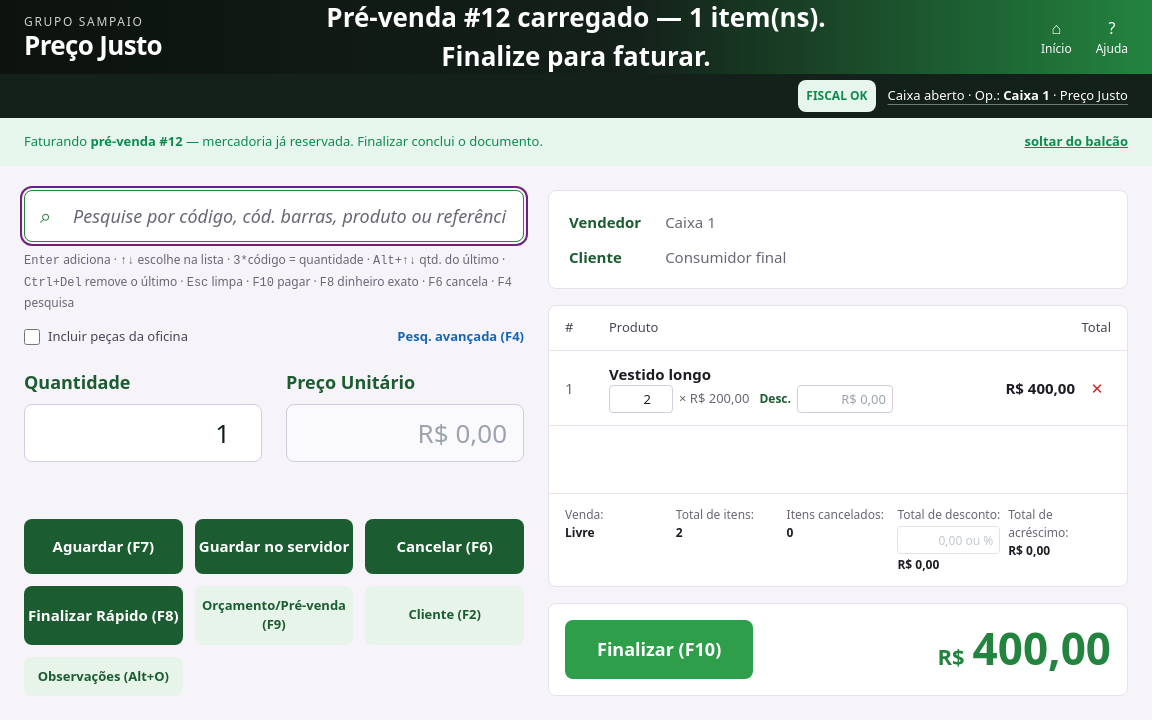
Test: a conversão da pré-venda recusada pela chave reusada › "Registrar como venda nova" converte o documento com OUTRA chave
What coordinates should you click on to do the following:
click the button "Finalizar Rápido (F8)"
I would click on:
 (103, 615)
Its box is [24,586,183,644].
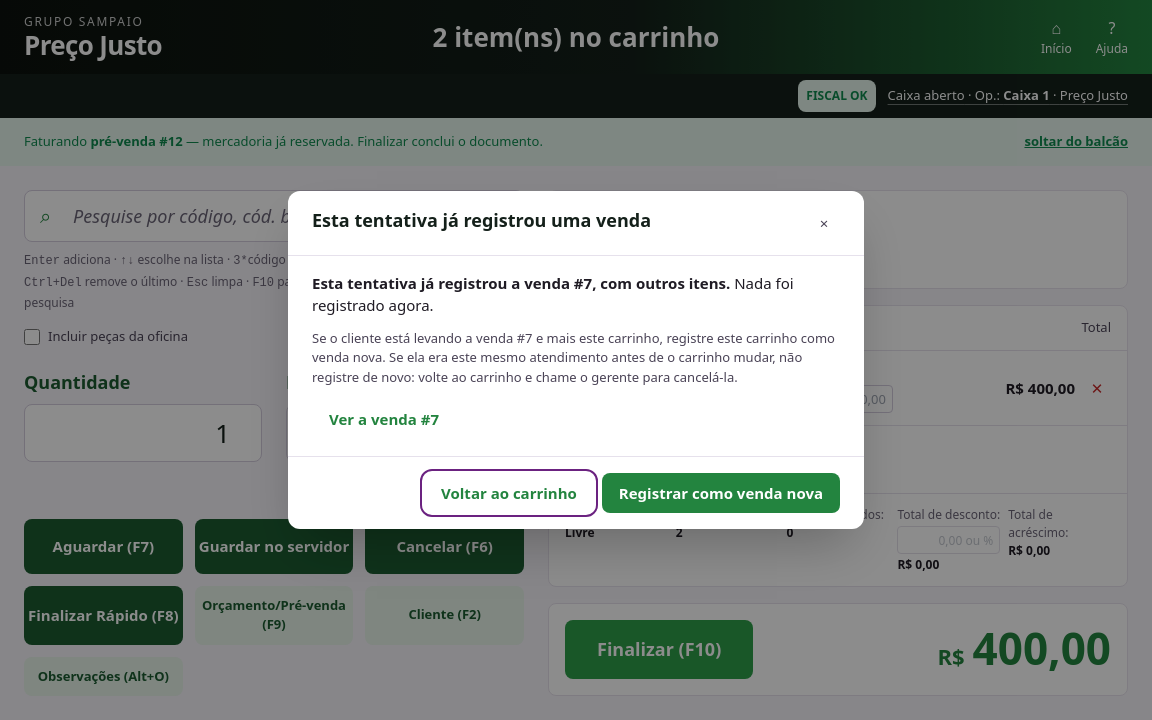
What coordinates should you click on to do the following:
click the button "Registrar como venda nova"
I would click on:
 (721, 493)
Its box is [602,473,840,513].
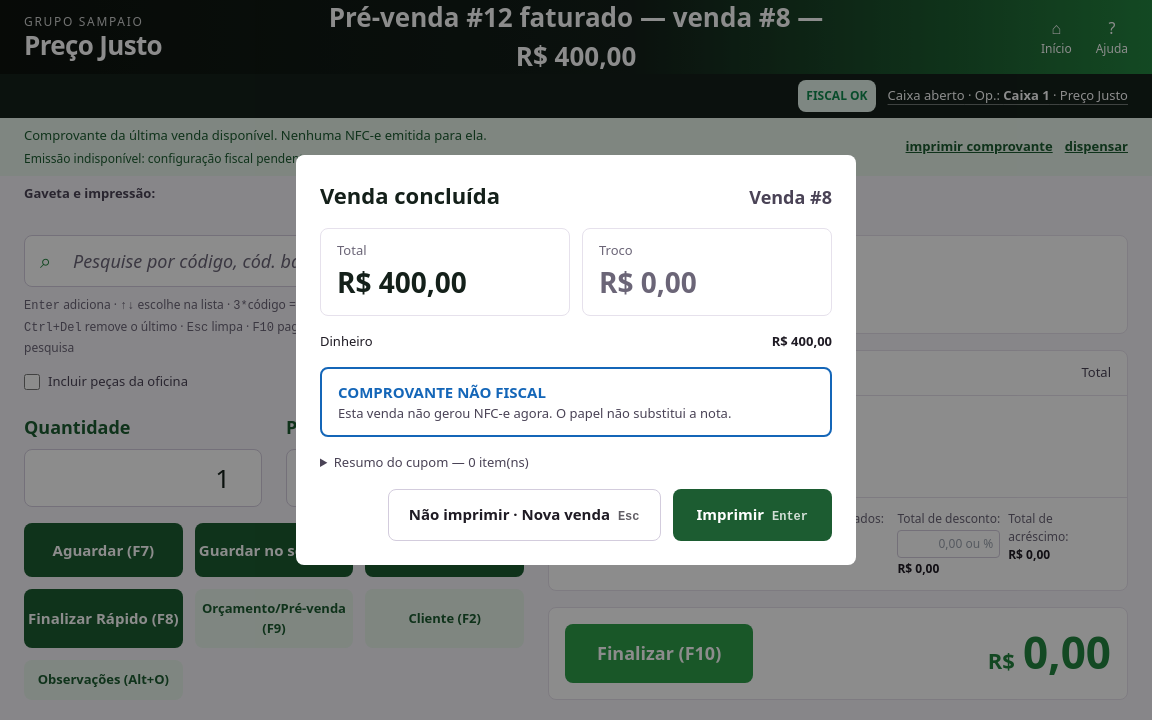
expect the heading "já registrou" is gone: met
